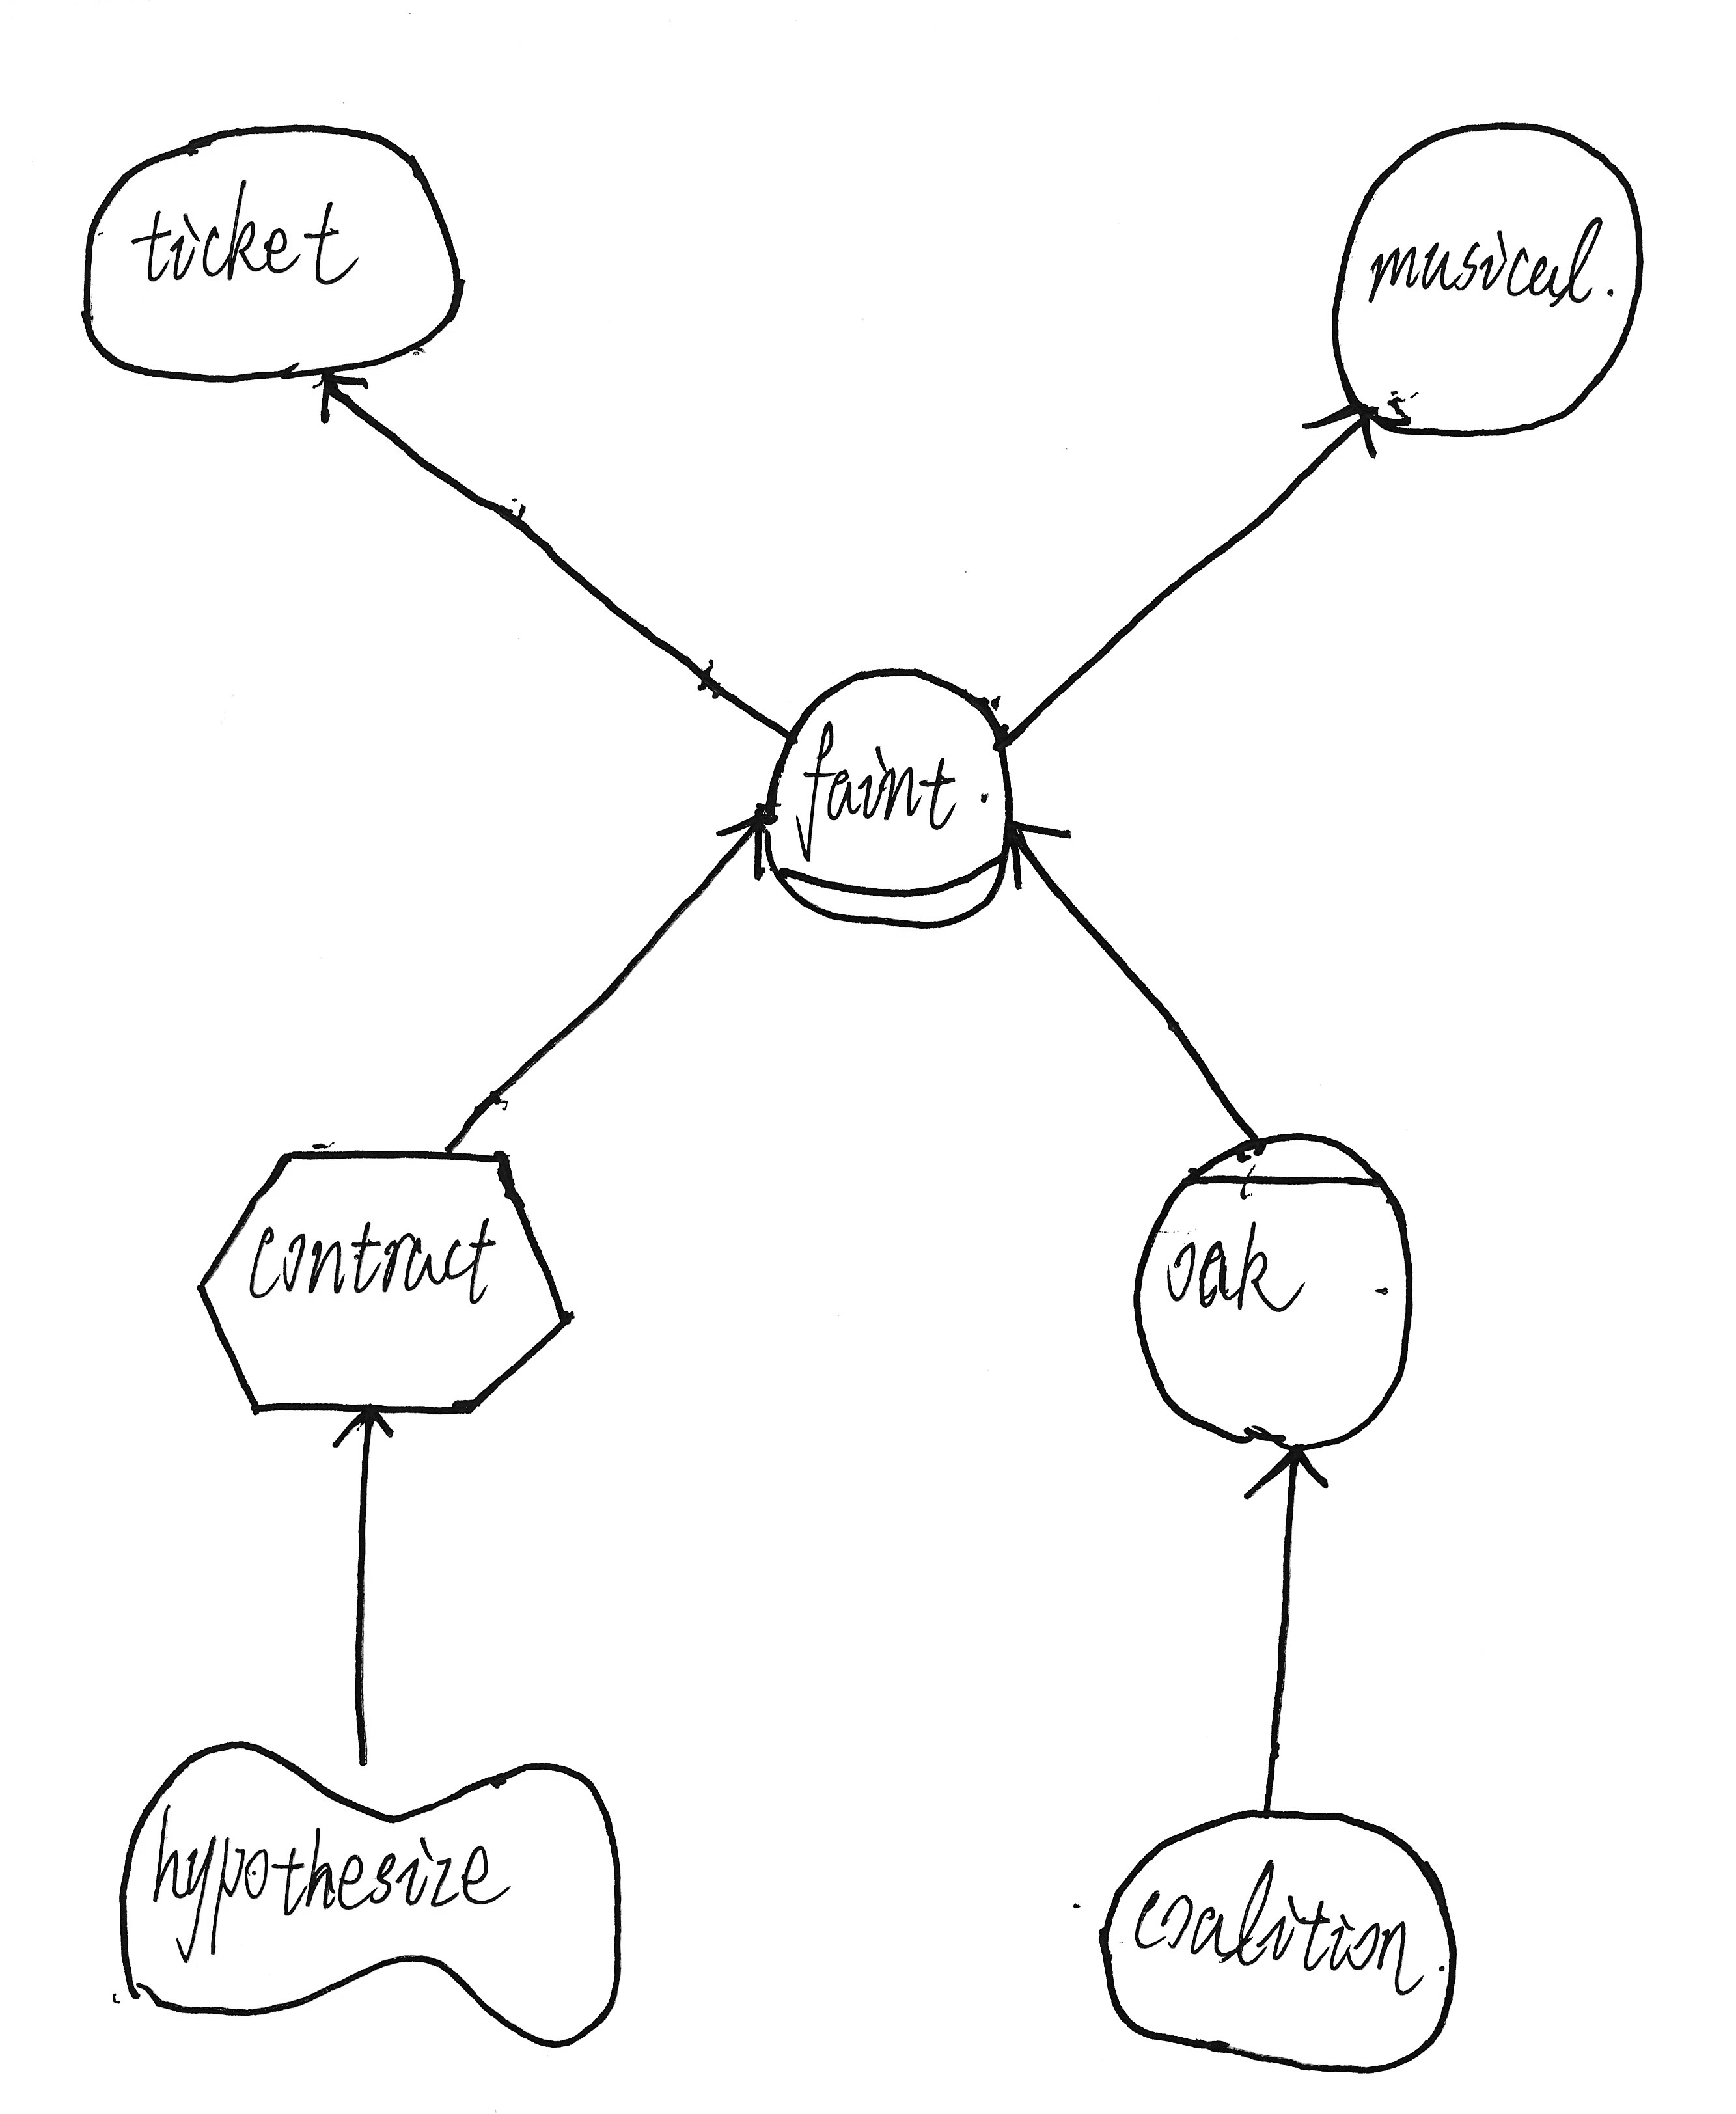actor: (1311, 104, 1661, 457)
agent: (1118, 1113, 1434, 1468)
arrow: (1292, 392, 1401, 485), (997, 802, 1083, 906), (1234, 1433, 1339, 1515), (290, 360, 397, 441), (702, 787, 783, 888), (316, 1398, 404, 1475)
goal: (63, 97, 476, 397), (1076, 1784, 1474, 2091)
quality: (93, 1724, 644, 2058)
role: (742, 657, 1039, 943)
task: (184, 1122, 595, 1436)
